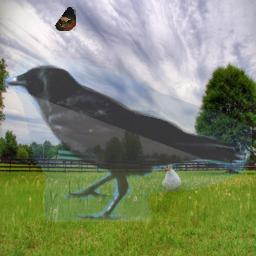Crow: (3, 59, 252, 222)
Swallow: (55, 7, 76, 31)
